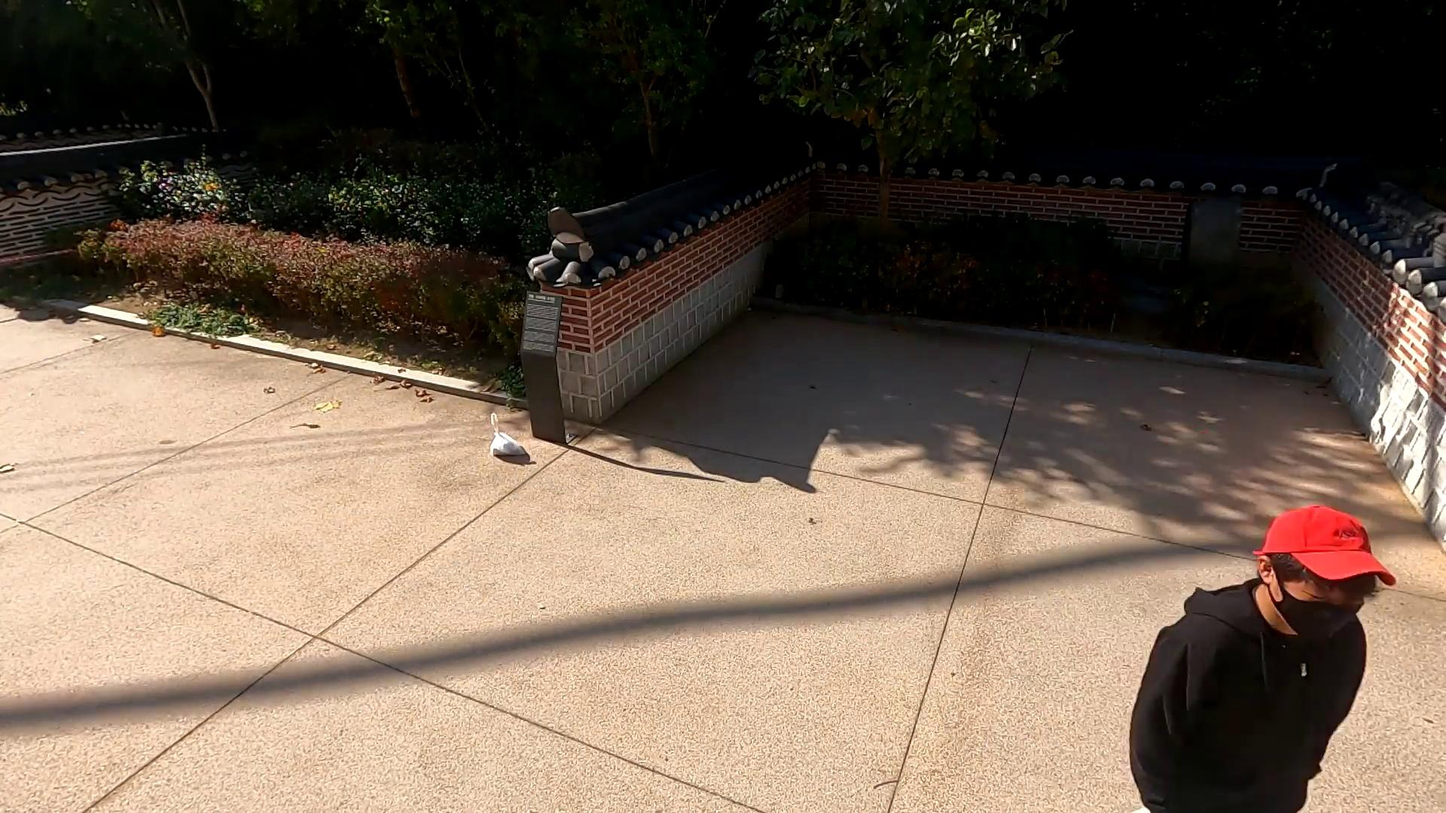person: (1120, 497, 1444, 813)
trash: (474, 421, 538, 473)
